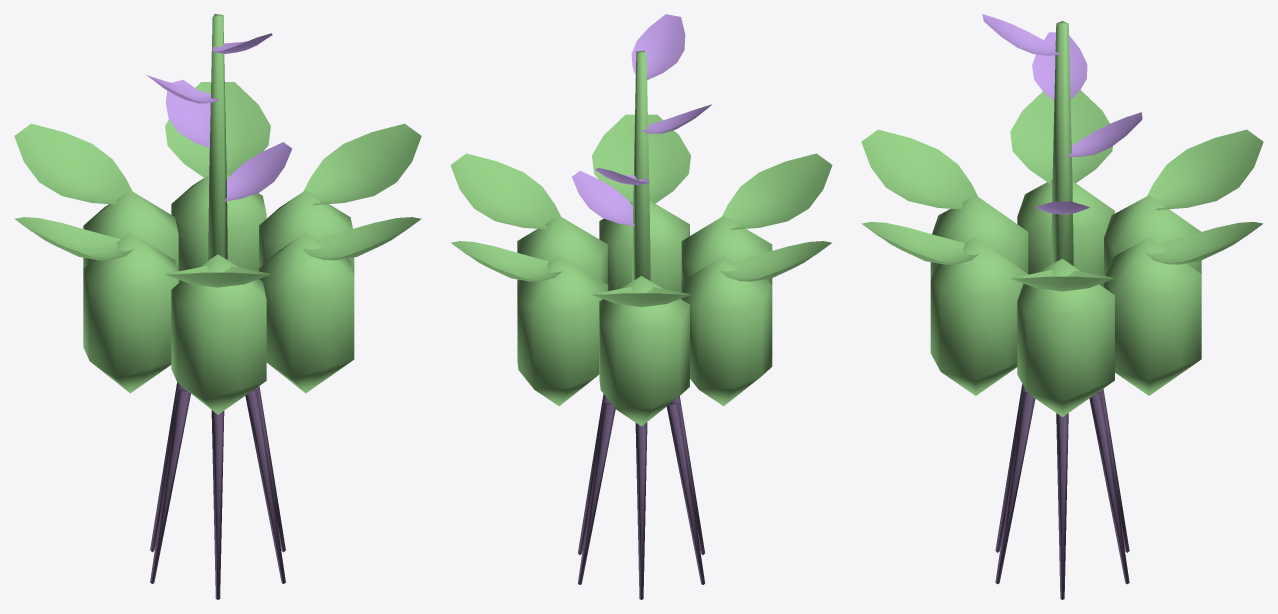
The model's file is aquatic_water_hyacinth.glb.
3 views of the same model, side by side, from view 1: azimuth 30°, elevation 25°; view 2: azimuth 150°, elevation 25°; view 3: azimuth 270°, elevation 25° (orthographic). The views are drawn at different scales.
Parts seen in each view (by area): view 1: Flora_Water_Hyacinth; view 2: Flora_Water_Hyacinth; view 3: Flora_Water_Hyacinth.
Part boxes in pixels (x1,y1,x2,y2): Flora_Water_Hyacinth: [14, 14, 421, 599]; Flora_Water_Hyacinth: [450, 14, 832, 599]; Flora_Water_Hyacinth: [861, 14, 1263, 599].
Size of the model in its own units: 0.3561 by 0.4881 by 0.3218.
